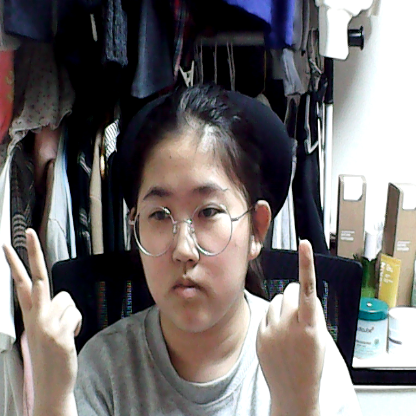Finger_1: (246, 227, 339, 401)
Finger_2: (1, 214, 103, 393)
